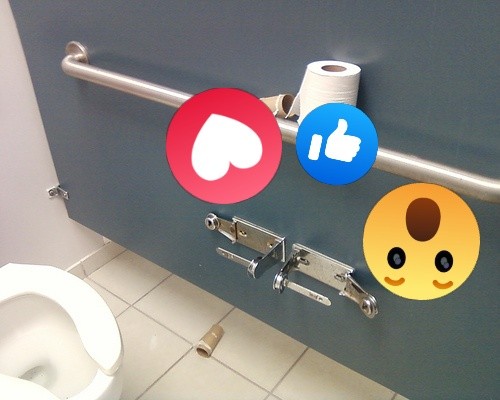like: (296, 103, 378, 185)
love: (166, 88, 282, 204)
wow: (363, 183, 480, 300)
